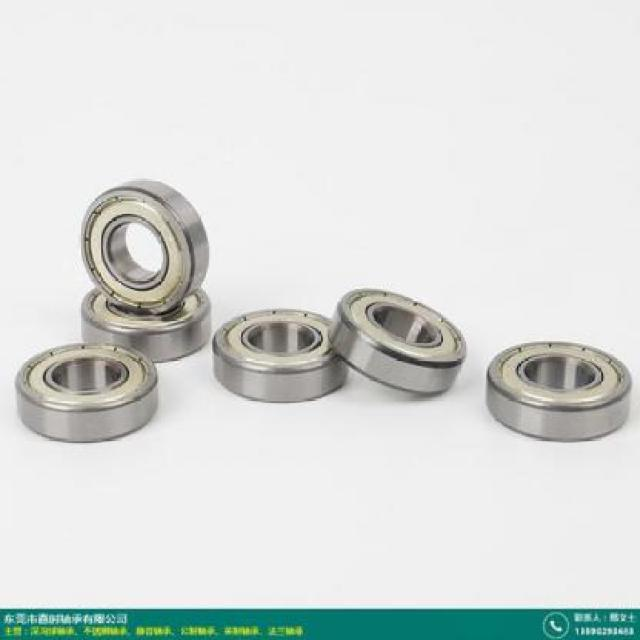Bearing: (79, 177, 210, 314), (328, 286, 470, 399), (485, 338, 633, 442), (13, 342, 160, 446), (210, 308, 348, 403), (79, 282, 214, 364)
